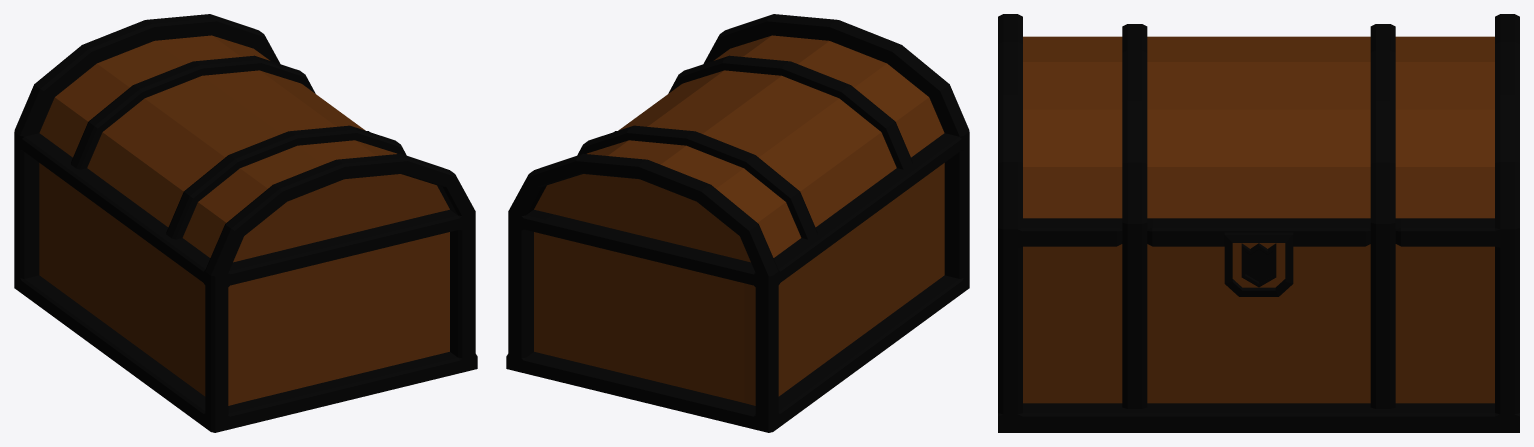
Rendered from wooden_chest.glb.
3 views of the same model, side by side, from view 1: azimuth 30°, elevation 25°; view 2: azimuth 150°, elevation 25°; view 3: azimuth 270°, elevation 25° (orthographic). The views are drawn at different scales.
Visible parts, largest first — view 1: Cube_2; view 2: Cube_2; view 3: Cube_2, Cube.001_3, Cube.002_4.
Part boxes in pixels (x1=…): Cube_2: x1=14, y1=14, x2=477, y2=432; Cube_2: x1=506, y1=14, x2=969, y2=432; Cube_2: x1=998, y1=14, x2=1519, y2=432; Cube.001_3: x1=1224, y1=232, x2=1293, y2=296; Cube.002_4: x1=1241, y1=243, x2=1276, y2=287.
Bounding box in the file's own units: 0.8817 × 0.7367 × 1.13.
